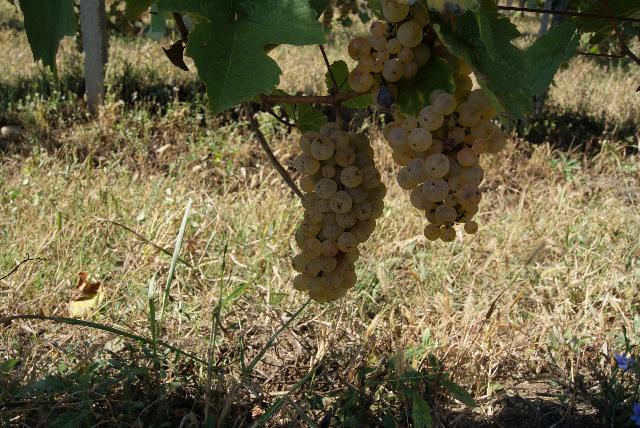grapes: (384, 70, 506, 241), (292, 122, 386, 301), (348, 0, 434, 104)
